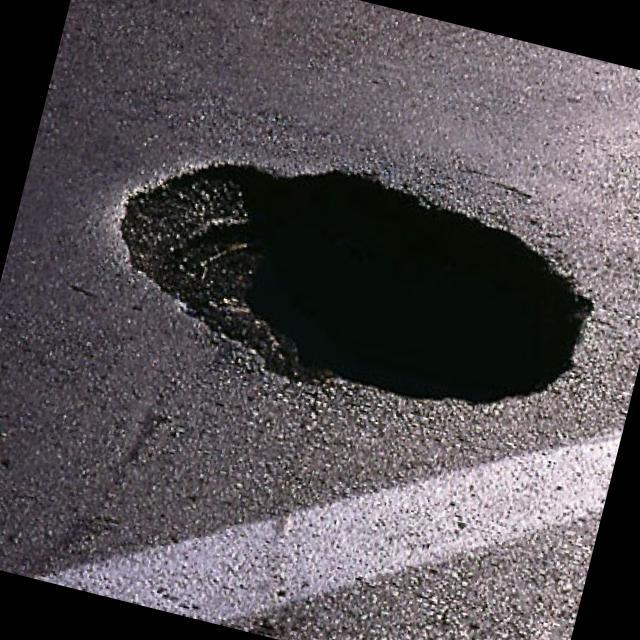Pothole: (63, 80, 630, 456)
